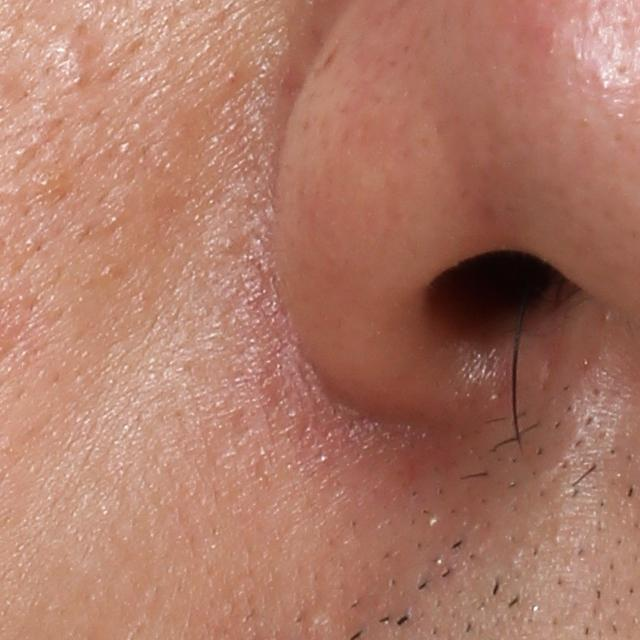comedo: (298, 603, 333, 637)
